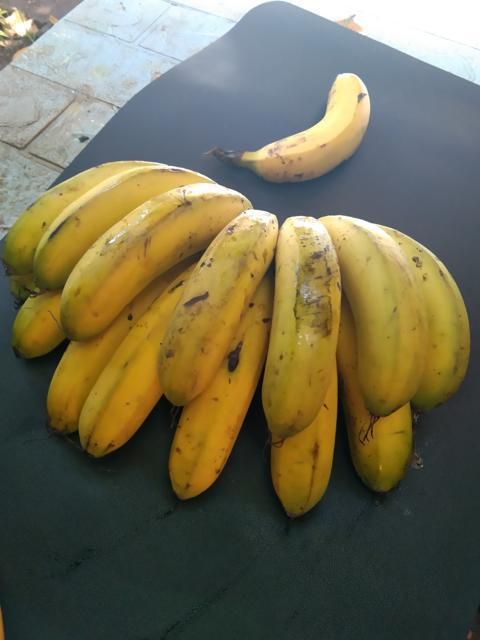ripe: (309, 179, 438, 418), (54, 185, 244, 335), (143, 213, 278, 406), (66, 297, 186, 480), (256, 212, 357, 426), (30, 162, 195, 288), (224, 48, 377, 179), (157, 376, 247, 502), (259, 415, 355, 533)
